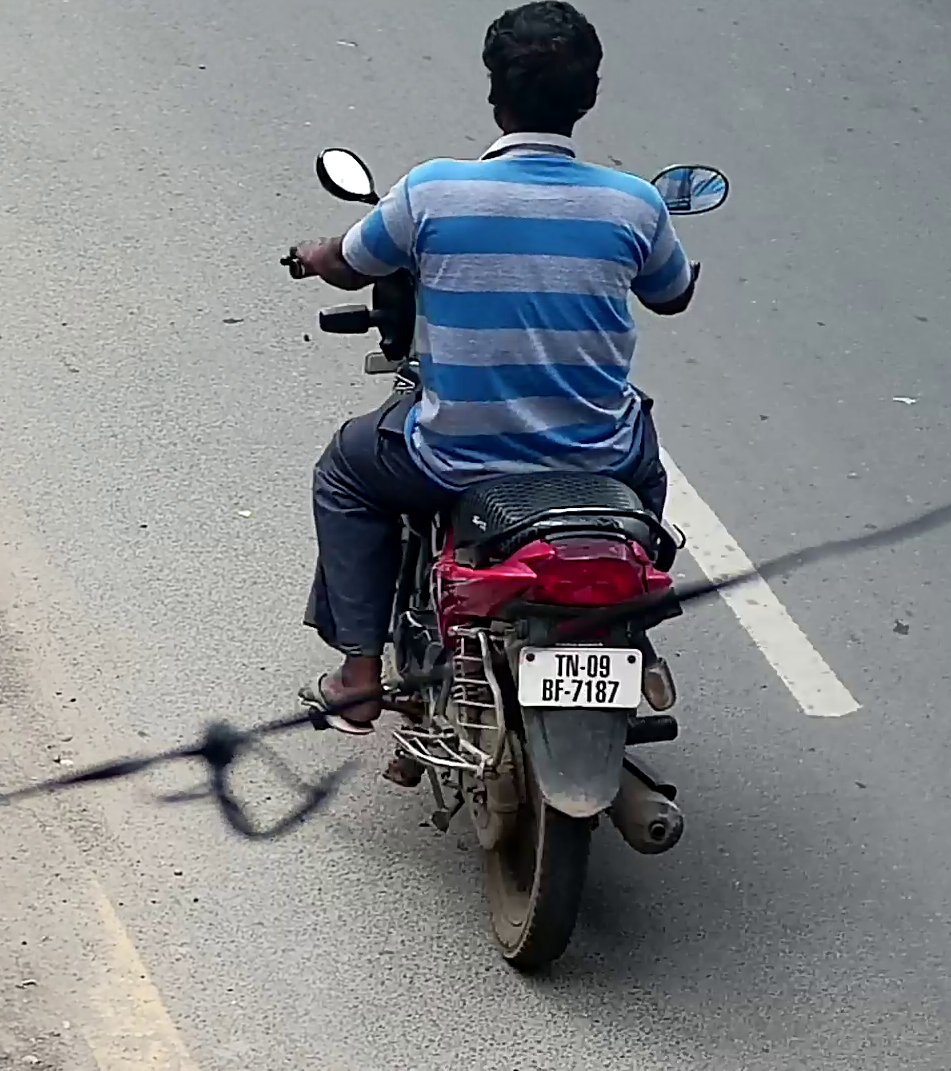-: (564, 690, 571, 695), (580, 666, 585, 671)
0: (586, 654, 598, 678)
1: (584, 680, 593, 703)
7: (608, 680, 620, 704), (571, 679, 583, 702)
8: (595, 680, 607, 703)
9: (598, 654, 610, 678)
B: (542, 679, 553, 701)
F: (554, 678, 564, 702)
N: (566, 654, 579, 677)
P16: (515, 644, 643, 710)
T: (554, 654, 565, 677)
